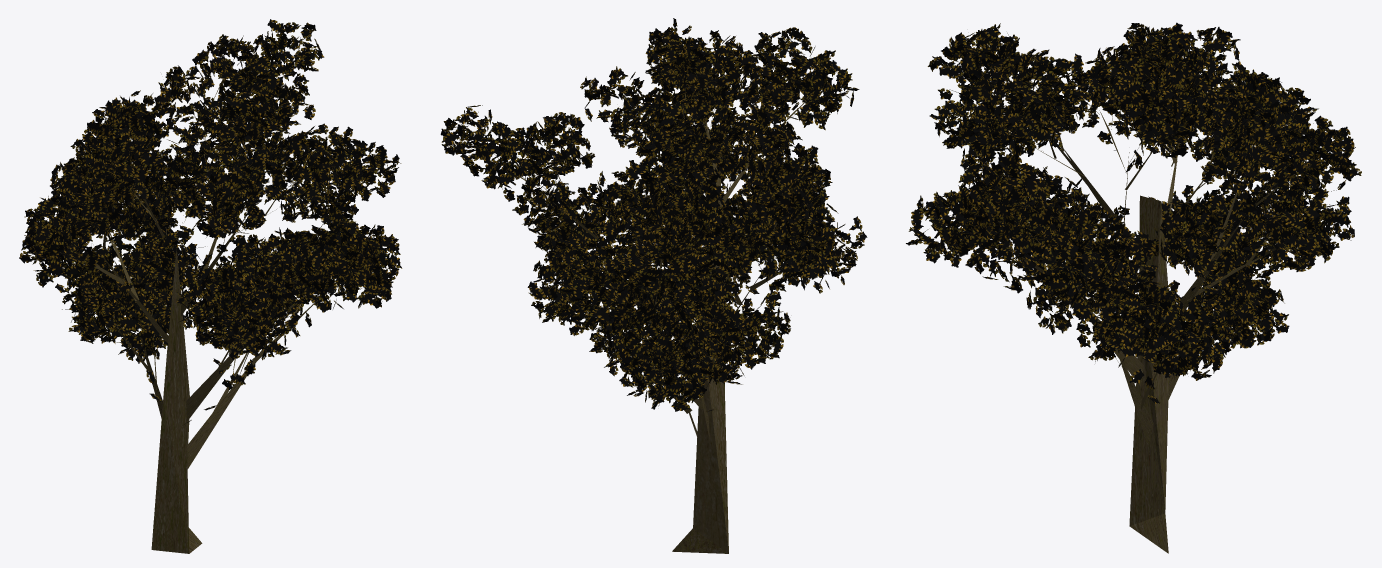
Rendered from broadleaf_giant_v03_LOD1.fbx.
3 views of the same model, side by side, from view 1: azimuth 30°, elevation 25°; view 2: azimuth 150°, elevation 25°; view 3: azimuth 270°, elevation 25° (orthographic). The views are drawn at different scales.
Parts seen in each view (by area): view 1: broadleaf_giant_v03_LOD1; view 2: broadleaf_giant_v03_LOD1; view 3: broadleaf_giant_v03_LOD1.
Boxes of the visible parts, x1,y1,x2,y2 form: broadleaf_giant_v03_LOD1: (19, 19, 402, 553); broadleaf_giant_v03_LOD1: (440, 18, 867, 553); broadleaf_giant_v03_LOD1: (906, 22, 1361, 553).
Bounding box in the file's own units: 3472 × 3501 × 4257.
Materials: 2 (2 with a texture image).
